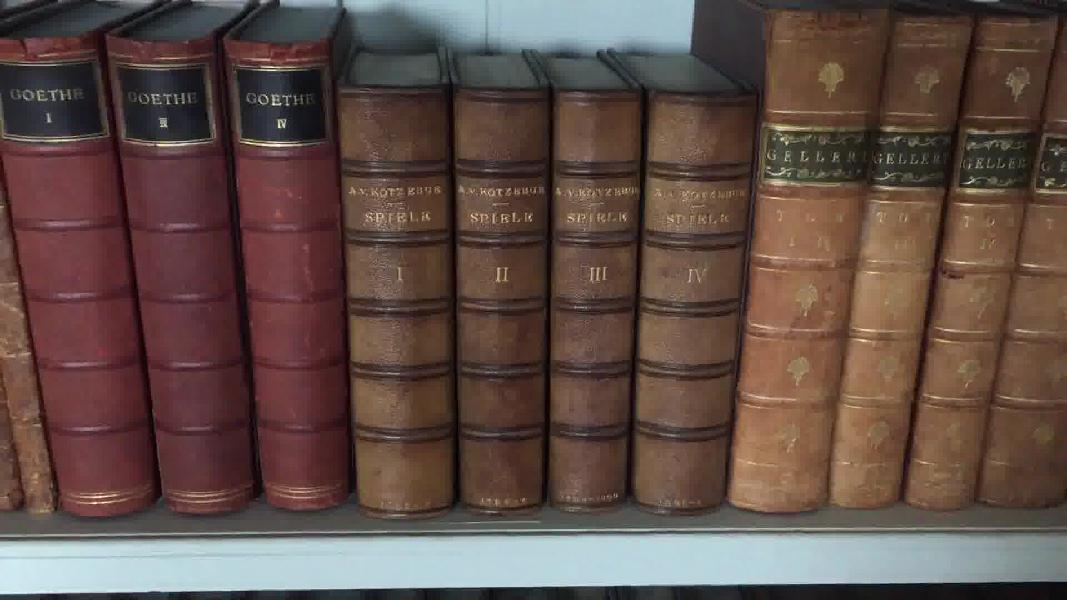Aa6-11_13: (4, 20, 365, 516)
Aa6-14_17: (335, 77, 732, 520)
Aa6-18_23: (725, 8, 1067, 512)
